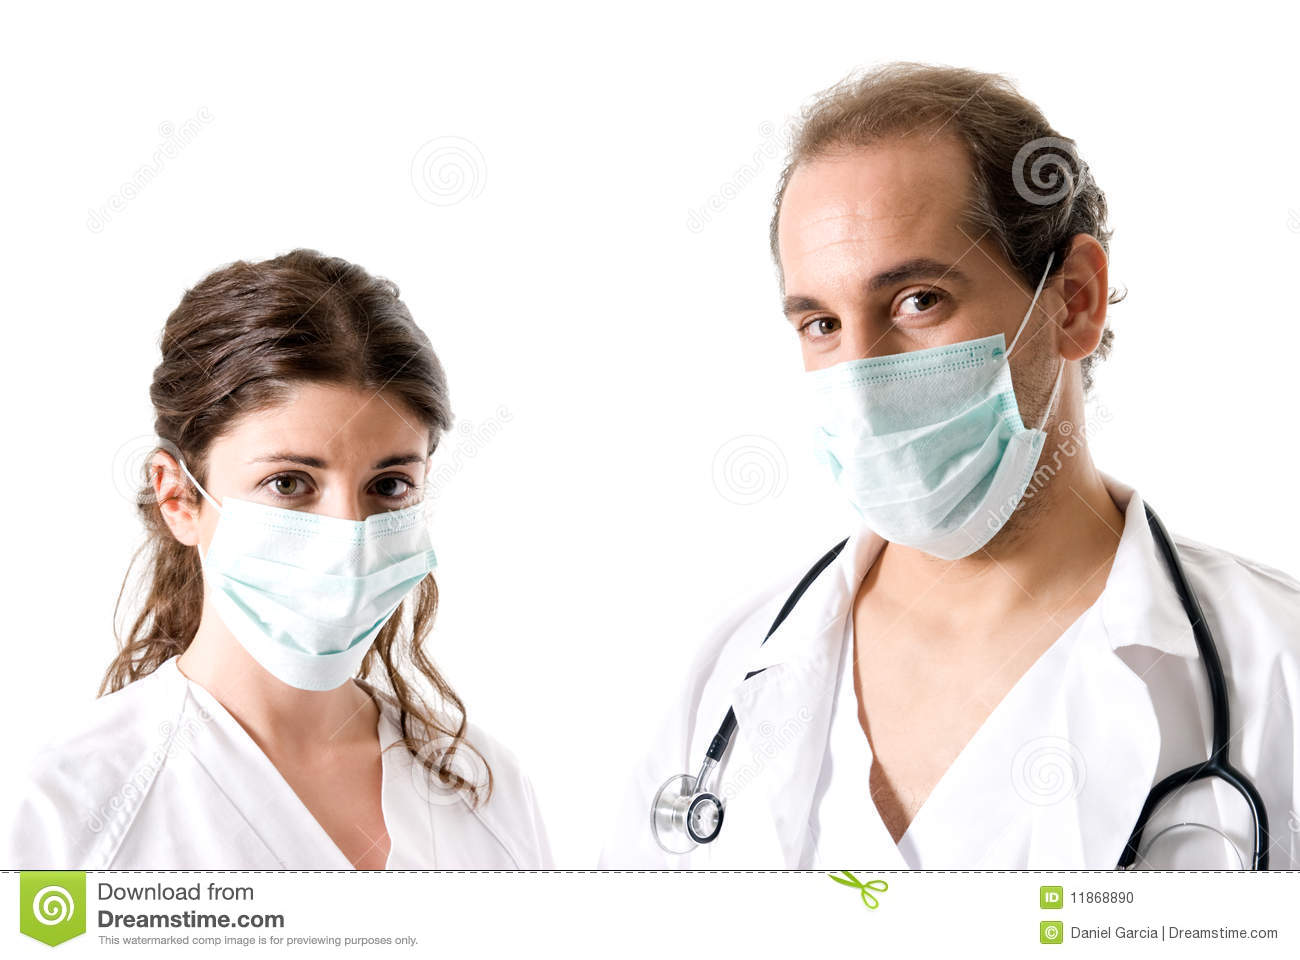mask: (805, 343, 1046, 561), (203, 499, 433, 700)
